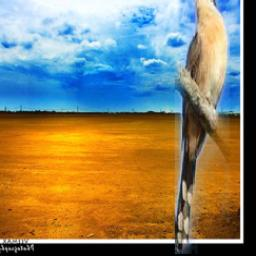Cuckoo: (175, 0, 230, 255)
